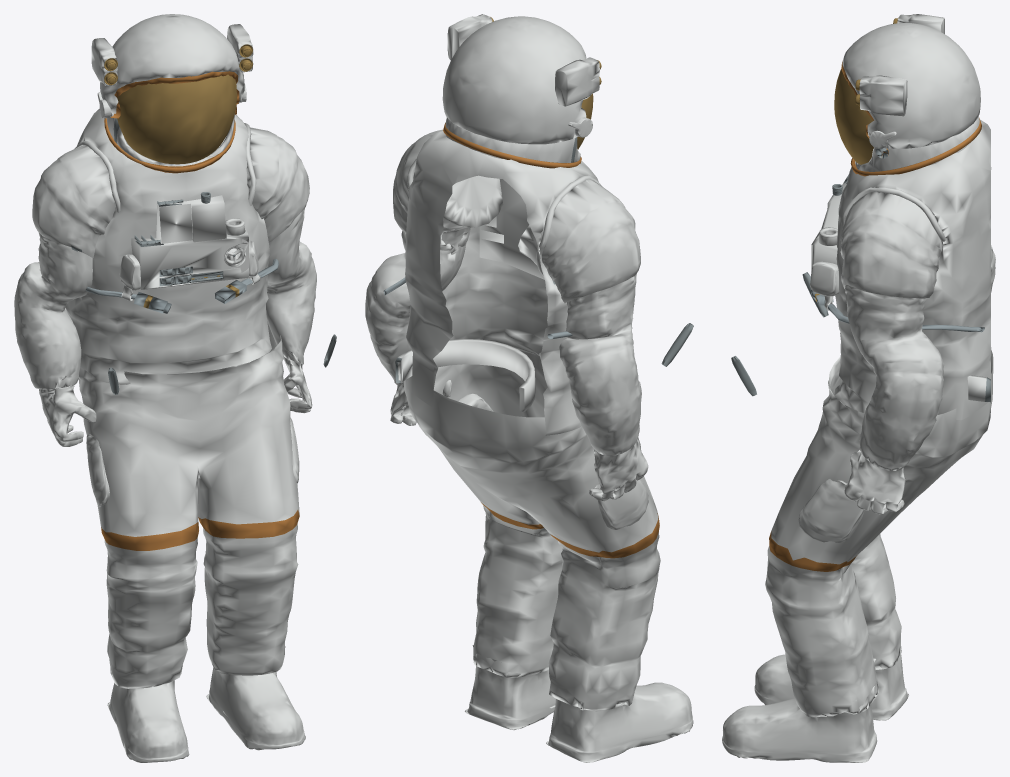
File: cruz-del-sur-eva-full.glb
The picture shows the model from 3 angles, left to right: view 1: azimuth 30°, elevation 25°; view 2: azimuth 150°, elevation 25°; view 3: azimuth 270°, elevation 25°; orthographic projection. The views are drawn at different scales.
Visible parts, largest first — view 1: Full EMU with relaxed arms and original leg garment; view 2: Full EMU with relaxed arms and original leg garment; view 3: Full EMU with relaxed arms and original leg garment.
Part boxes in pixels (x1=…): Full EMU with relaxed arms and original leg garment: x1=14, y1=14, x2=336, y2=762; Full EMU with relaxed arms and original leg garment: x1=365, y1=14, x2=693, y2=762; Full EMU with relaxed arms and original leg garment: x1=722, y1=14, x2=995, y2=762.
Bounding box in the file's own units: 0.88 × 2.12 × 0.7477.
